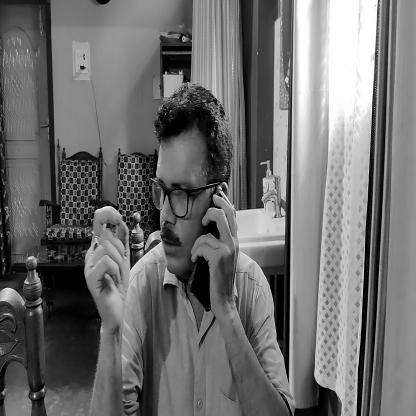Distracted: (149, 90, 230, 292)
